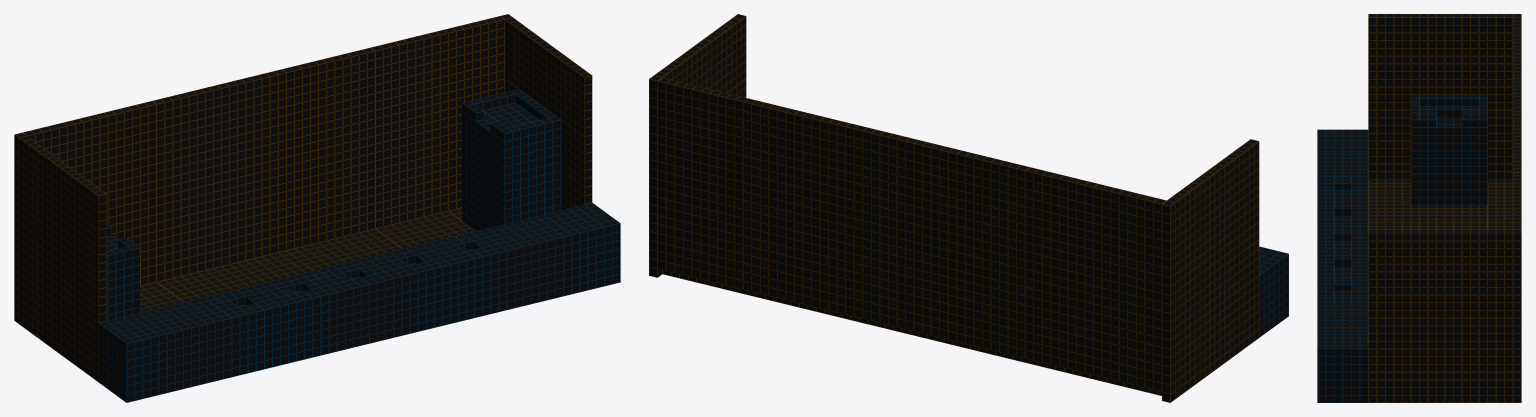
File: balls_bridge_nomp.dae
The picture shows the model from 3 angles, left to right: view 1: azimuth 30°, elevation 25°; view 2: azimuth 150°, elevation 25°; view 3: azimuth 270°, elevation 25°; orthographic projection. The views are drawn at different scales.
Visible parts, largest first — view 1: balls_bridge_nomp; view 2: balls_bridge_nomp; view 3: balls_bridge_nomp.
Part boxes in pixels (<box>): balls_bridge_nomp: <box>14,14,620,402</box>; balls_bridge_nomp: <box>649,14,1288,402</box>; balls_bridge_nomp: <box>1317,14,1521,402</box>.
Bounding box in the file's own units: 122 × 48 × 44.
Materials: 2 (2 with a texture image).
